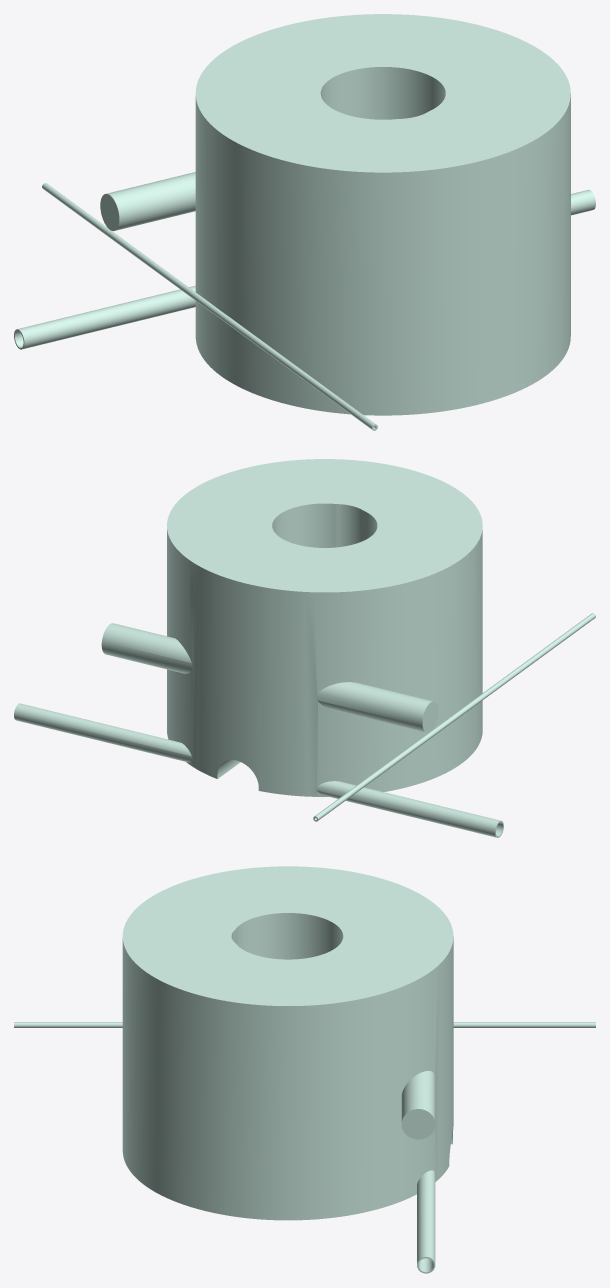
The picture shows the model from 3 angles, top to bottom: view 1: azimuth 30°, elevation 25°; view 2: azimuth 150°, elevation 25°; view 3: azimuth 270°, elevation 25°; orthographic projection. The views are drawn at different scales.
Parts seen in each view (by area): view 1: Renderer Node; view 2: Renderer Node; view 3: Renderer Node.
Boxes of the visible parts, x1=… form: Renderer Node: x1=14, y1=14, x2=595, y2=430; Renderer Node: x1=14, y1=459, x2=595, y2=837; Renderer Node: x1=14, y1=866, x2=595, y2=1273.
Bounding box in the file's own units: 1.5 × 0.6096 × 1.5.
